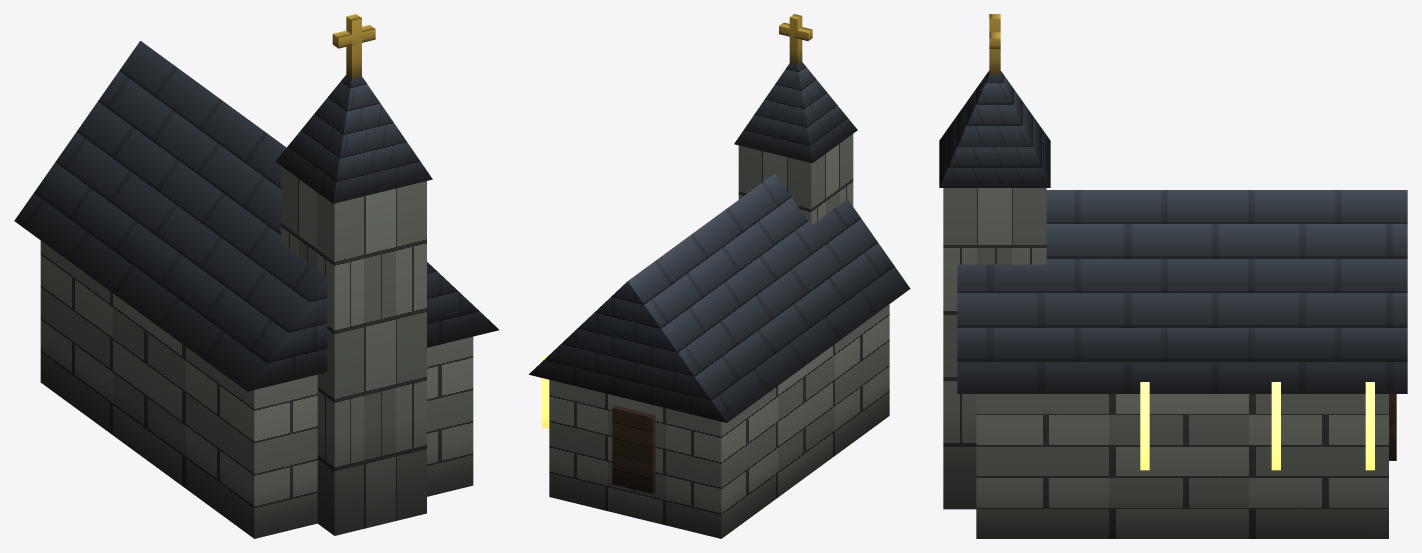
File: church.gltf
The picture shows the model from 3 angles, left to right: view 1: azimuth 30°, elevation 25°; view 2: azimuth 150°, elevation 25°; view 3: azimuth 270°, elevation 25°; orthographic projection. The views are drawn at different scales.
Visible parts, largest first — view 1: church; view 2: church; view 3: church.
Part boxes in pixels (x1,y1,x2,y2): church: [14, 14, 499, 538]; church: [529, 14, 910, 538]; church: [939, 14, 1407, 538].
Bounding box in the file's own units: 1.5 × 2.77 × 2.5.
Materials: 1 (1 with a texture image).
